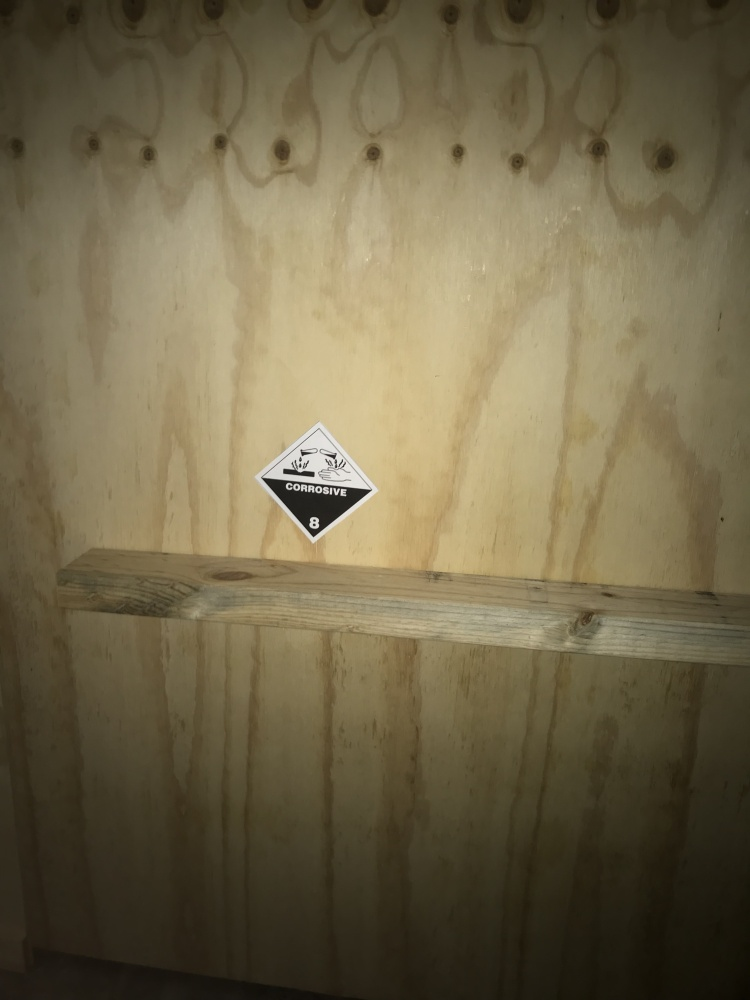Corrosive: (254, 421, 378, 544)
